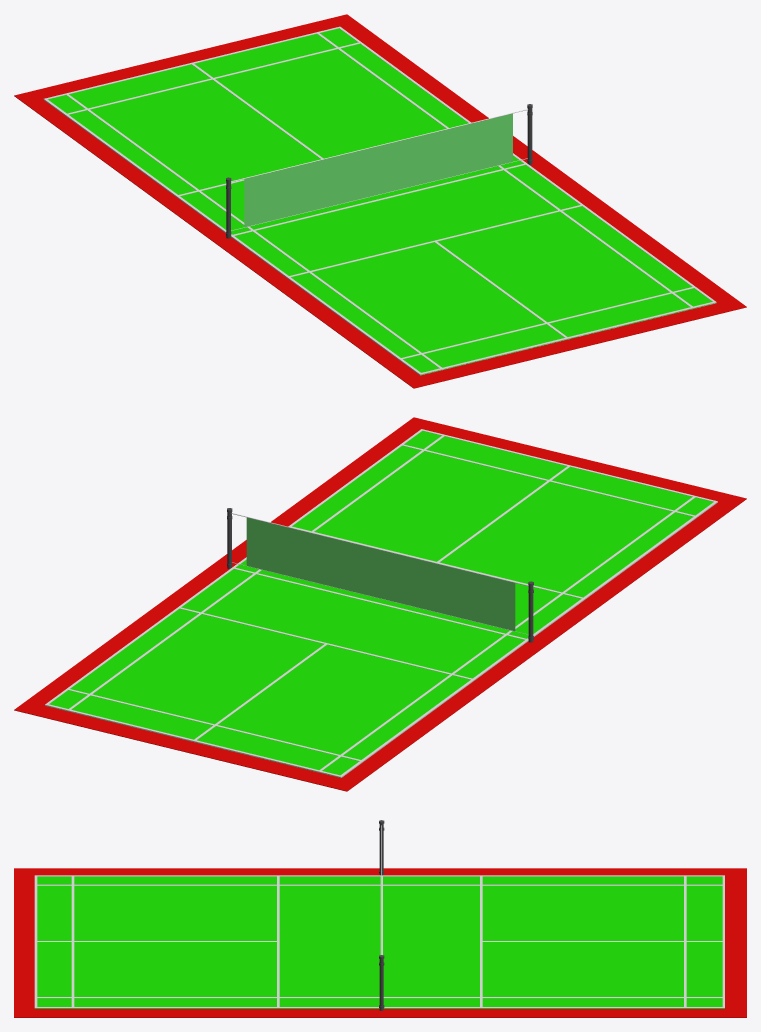
The model's file is 羽毛球场.fbx.
3 renders of one model, top to bottom at view 1: azimuth 30°, elevation 25°; view 2: azimuth 150°, elevation 25°; view 3: azimuth 270°, elevation 25°, orthographic. The views are drawn at different scales.
Visible parts, largest first — view 1: Obj3d66-1115673-14-712, Obj3d66-1115673-15-597, Obj3d66-1115673-18-135, Obj3d66-1115673-13-21, Obj3d66-1115673-17-621, Obj3d66-1115673-16-737; view 2: Obj3d66-1115673-14-712, Obj3d66-1115673-15-597, Obj3d66-1115673-18-135, Obj3d66-1115673-13-21, Obj3d66-1115673-17-621, Obj3d66-1115673-16-737; view 3: Obj3d66-1115673-14-712, Obj3d66-1115673-15-597, Obj3d66-1115673-13-21, Obj3d66-1115673-16-737.
Part boxes in pixels (x1,y1,x2,y2): Obj3d66-1115673-14-712: (48, 28, 716, 375); Obj3d66-1115673-15-597: (14, 14, 746, 388); Obj3d66-1115673-18-135: (244, 113, 512, 227); Obj3d66-1115673-13-21: (43, 26, 716, 375); Obj3d66-1115673-17-621: (231, 109, 528, 230); Obj3d66-1115673-16-737: (226, 104, 532, 238); Obj3d66-1115673-14-712: (48, 431, 713, 777); Obj3d66-1115673-15-597: (14, 417, 746, 791); Obj3d66-1115673-18-135: (246, 517, 515, 631); Obj3d66-1115673-13-21: (45, 429, 717, 777); Obj3d66-1115673-17-621: (231, 513, 528, 634); Obj3d66-1115673-16-737: (227, 508, 533, 642); Obj3d66-1115673-14-712: (34, 876, 724, 1008); Obj3d66-1115673-15-597: (14, 868, 746, 1017); Obj3d66-1115673-13-21: (34, 875, 724, 1008); Obj3d66-1115673-16-737: (379, 820, 384, 1010).
Bounding box in the file's own units: 6.88 × 1.26 × 14.31.
